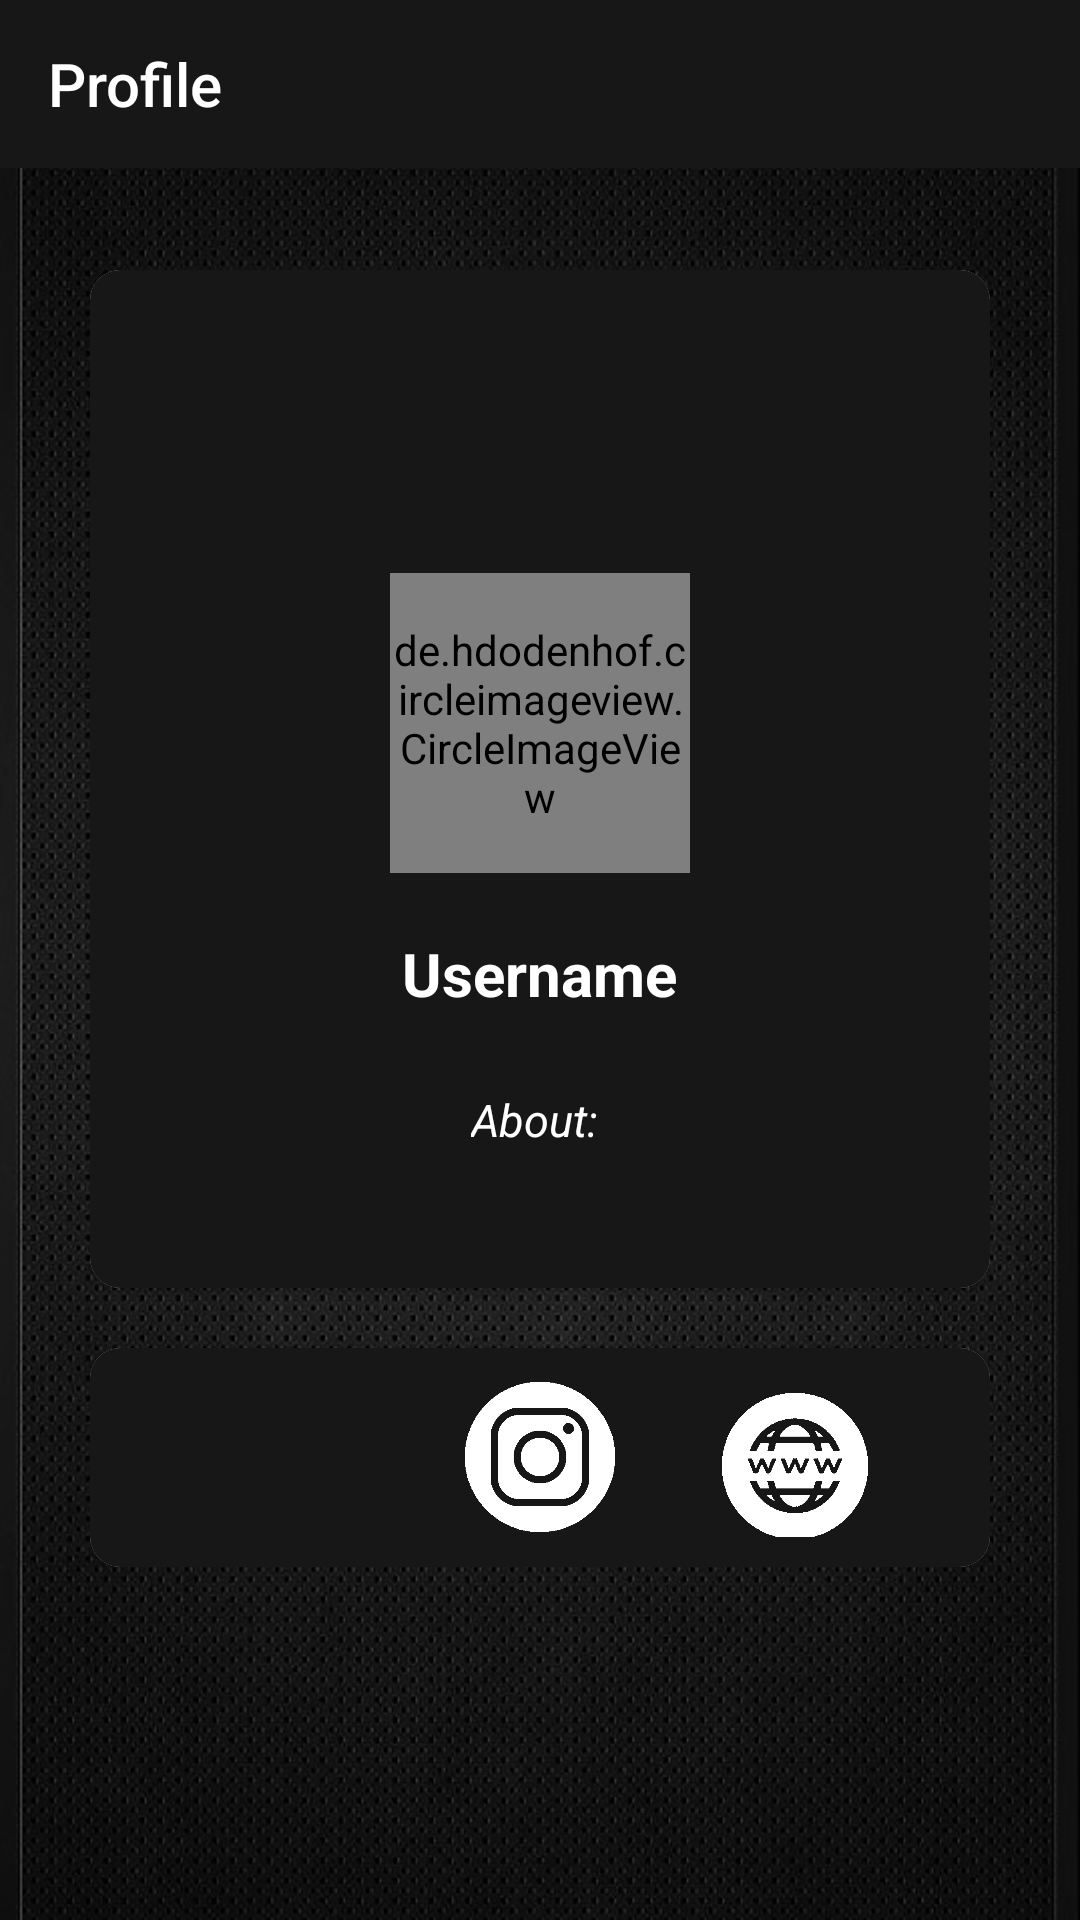

Icons on this 1080×1920 Android screen, each with the point to tap as (x=x, y=y):
website: (x=795, y=1465)
